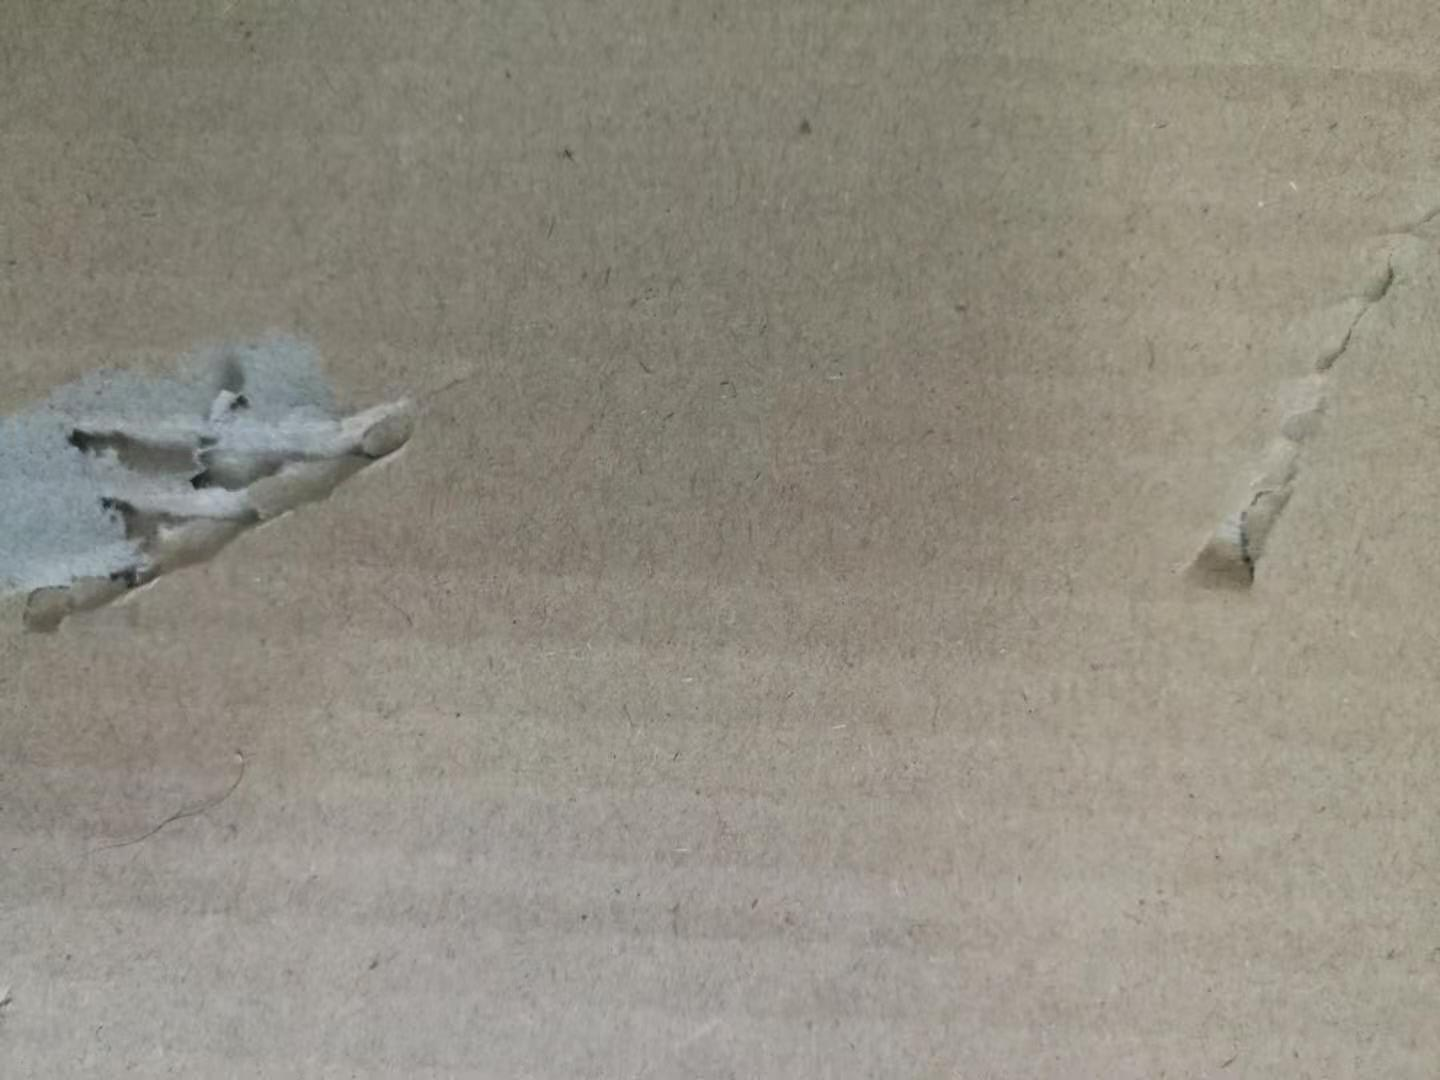defect: (1, 288, 520, 659), (1149, 170, 1440, 627)
